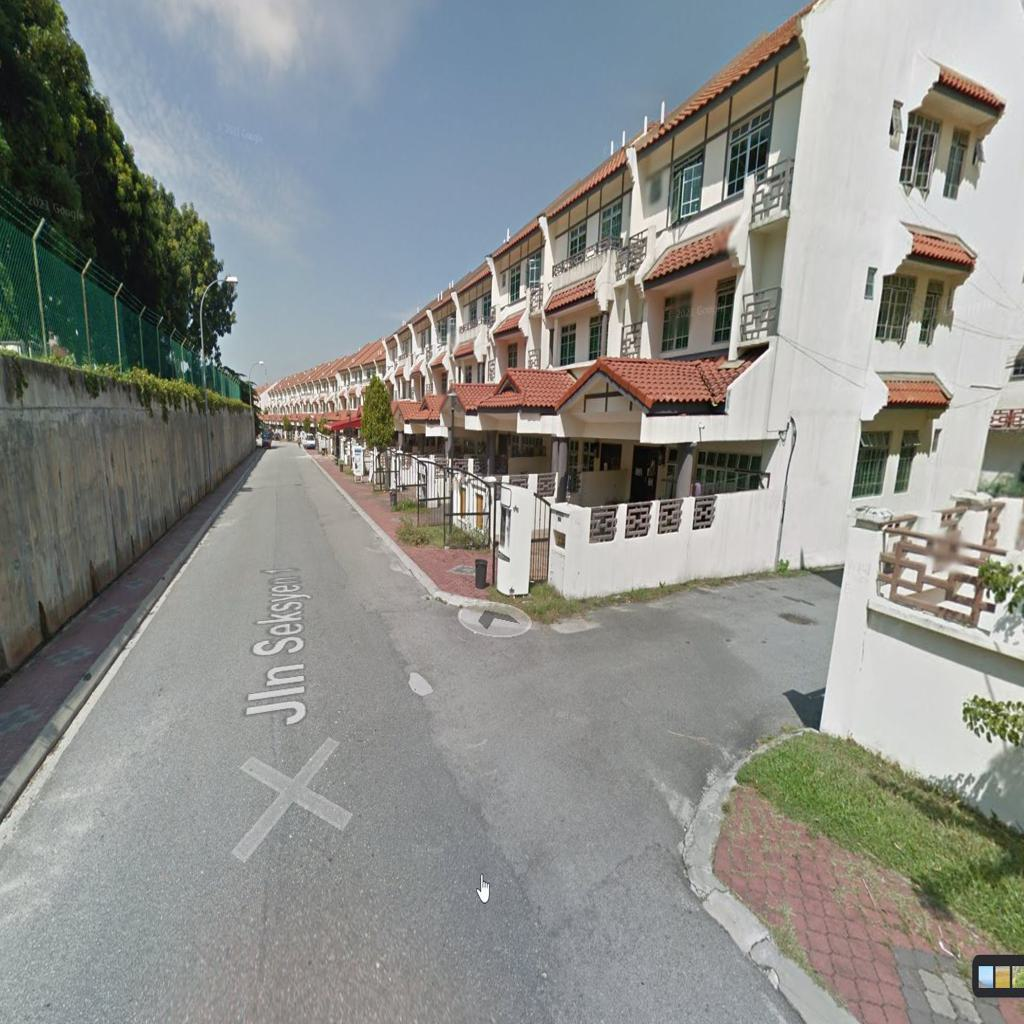Junction: (482, 587, 810, 815)
